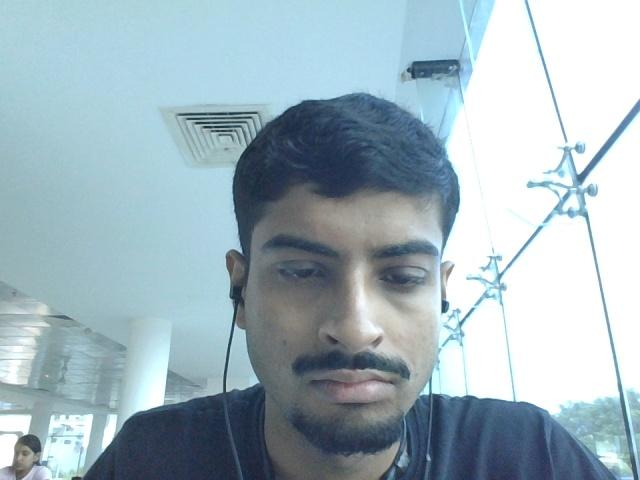confident: (210, 83, 491, 452)
